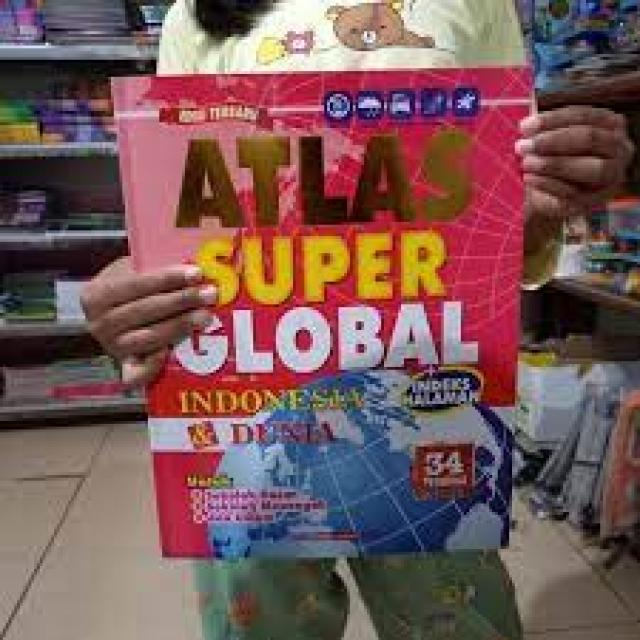book: (109, 74, 525, 554)
